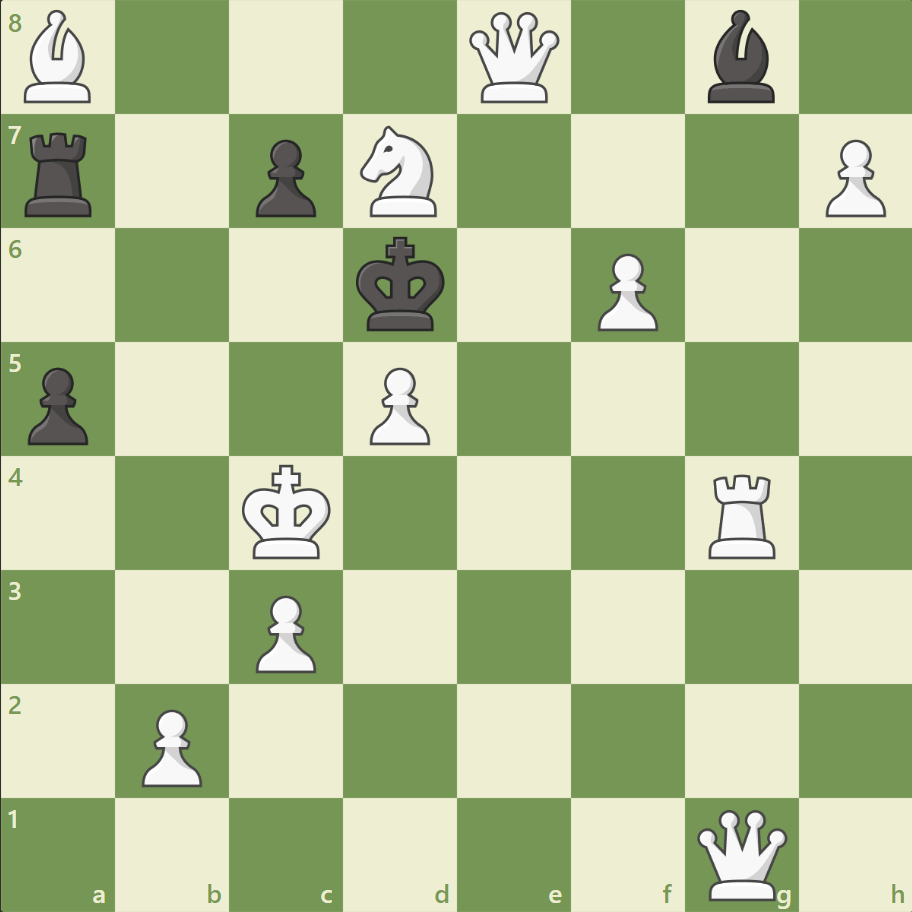B: (17, 6, 101, 109)
K: (238, 458, 338, 566)
N: (351, 121, 449, 223)
P: (247, 586, 322, 677), (133, 700, 208, 791), (815, 132, 889, 223), (588, 246, 662, 337), (361, 359, 435, 450)
Q: (464, 9, 563, 108), (691, 804, 790, 903)
R: (700, 466, 783, 563)
b: (698, 6, 782, 109)
k: (351, 231, 451, 339)
p: (247, 132, 322, 223), (20, 359, 95, 450)
r: (19, 125, 102, 222)
